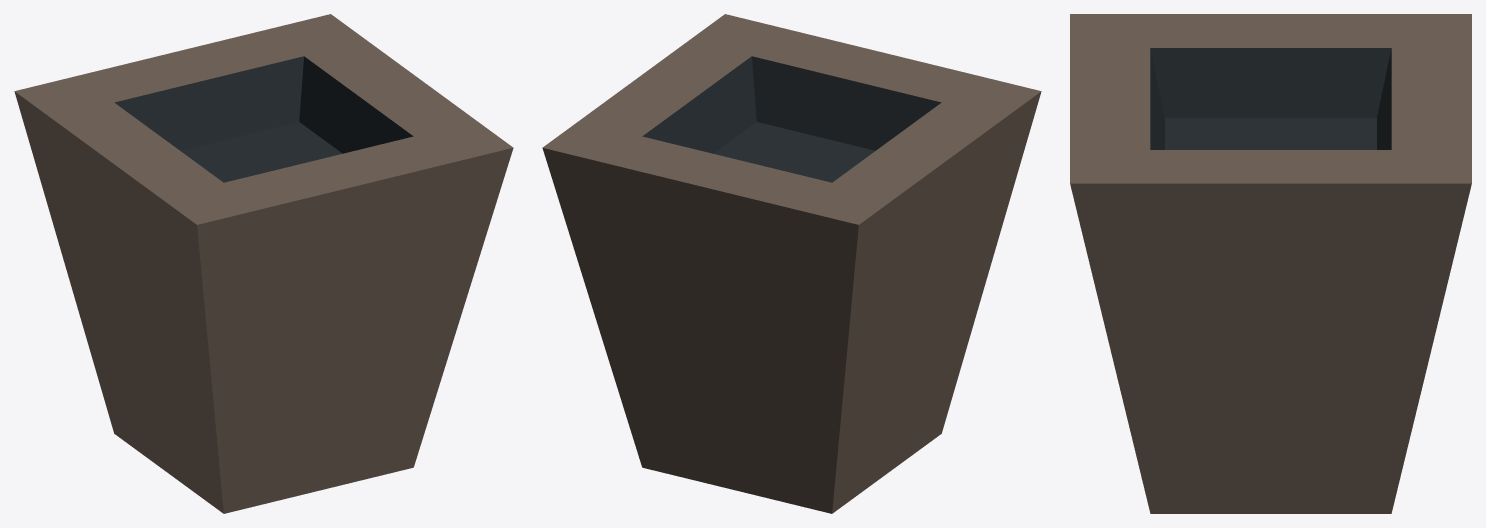
The model's file is flowerpot1.fbx.
3 views of the same model, side by side, from view 1: azimuth 30°, elevation 25°; view 2: azimuth 150°, elevation 25°; view 3: azimuth 270°, elevation 25° (orthographic). The views are drawn at different scales.
Visible parts, largest first — view 1: Cube; view 2: Cube; view 3: Cube.
Boxes of the visible parts, <box> form: Cube: <box>14,14,513,513</box>; Cube: <box>542,14,1041,513</box>; Cube: <box>1070,14,1471,513</box>.
Bounding box in the file's own units: 200 × 200 × 200.
